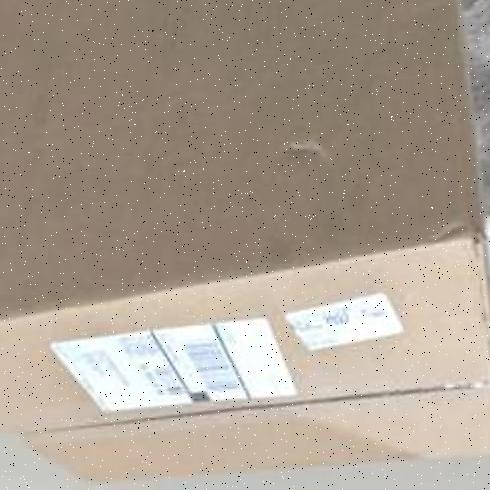Other: (8, 0, 490, 484)
